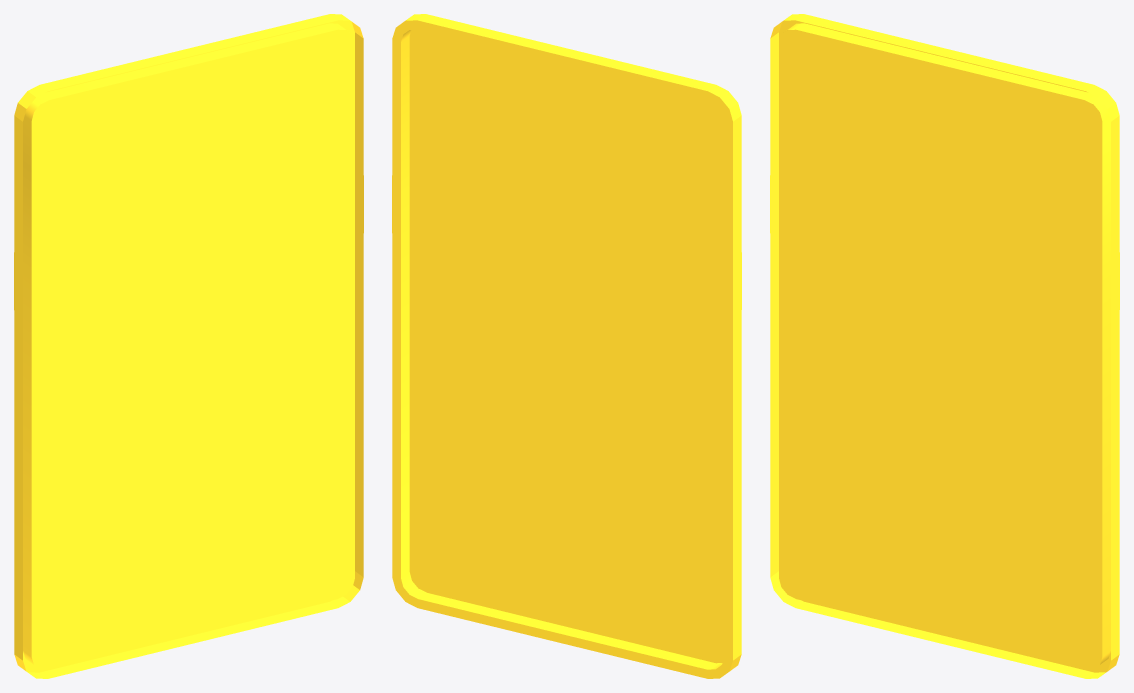
File: highlight_frame.glb
3 renders of one model, left to right at view 1: azimuth 30°, elevation 25°; view 2: azimuth 150°, elevation 25°; view 3: azimuth 330°, elevation 25°, orthographic.
Parts seen in each view (by area): view 1: title_plane.001; view 2: title_plane.001; view 3: title_plane.001.
Boxes of the visible parts, x1,y1,x2,y2 form: title_plane.001: (14, 14, 363, 678); title_plane.001: (392, 14, 741, 678); title_plane.001: (770, 14, 1119, 678).
Bounding box in the file's own units: 1.06 × 1.75 × 0.0469.
